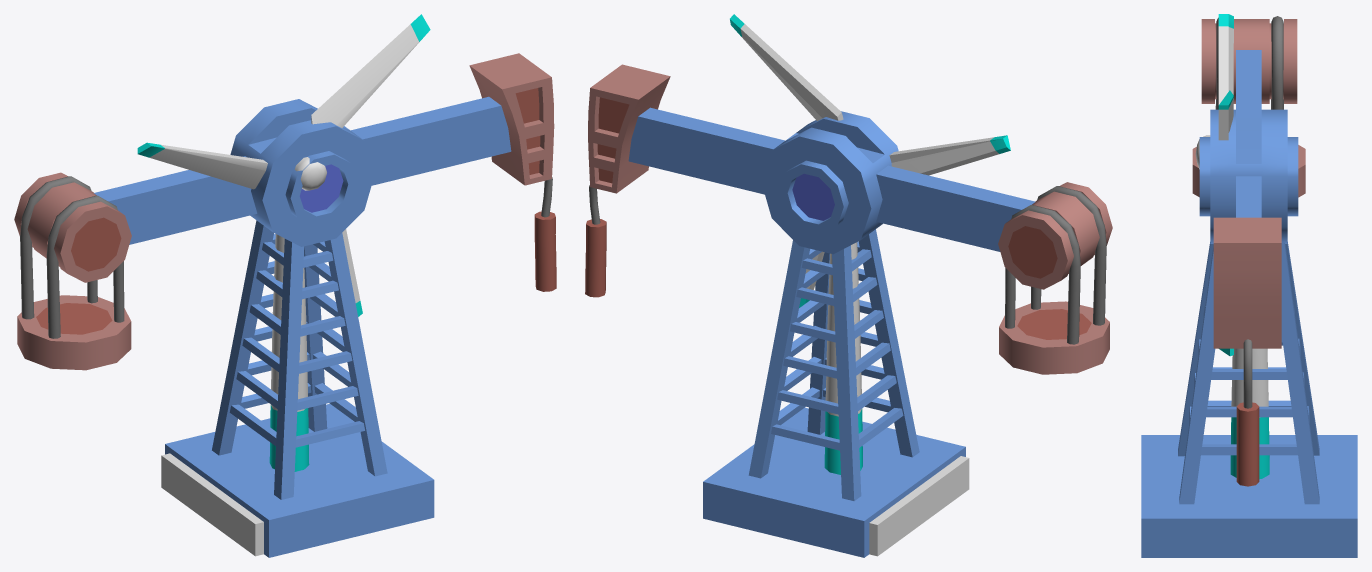
Rendered from Patrol_Electric_BASE.fbx.
The picture shows the model from 3 angles, left to right: view 1: azimuth 30°, elevation 25°; view 2: azimuth 150°, elevation 25°; view 3: azimuth 270°, elevation 25°; orthographic projection. The views are drawn at different scales.
Visible parts, largest first — view 1: PumpJackDown, PumpJackMiddle, PumpJackLeft, MainTribun, TribunHolder, TribunCylinder, PumpRightDown; view 2: PumpJackDown, PumpJackMiddle, PumpJackLeft, MainTribun, TribunHolder, TribunCylinder, PumpRightDown; view 3: PumpJackDown, PumpJackMiddle, PumpJackLeft, PumpRightDown, TribunCylinder, MainTribun.
Boxes of the visible parts, x1,y1,x2,y2 form: PumpJackDown: (165, 220, 434, 557); PumpJackMiddle: (94, 53, 554, 246); PumpJackLeft: (14, 172, 131, 370); MainTribun: (137, 14, 430, 316); TribunHolder: (161, 453, 263, 556); TribunCylinder: (269, 234, 309, 471); PumpRightDown: (534, 177, 556, 291); PumpJackDown: (703, 229, 965, 557); PumpJackMiddle: (588, 64, 1035, 254); PumpJackLeft: (998, 182, 1112, 374); MainTribun: (730, 14, 1010, 307); TribunHolder: (869, 456, 969, 556); TribunCylinder: (824, 242, 862, 474); PumpRightDown: (585, 185, 606, 297); PumpJackDown: (1141, 242, 1357, 557); PumpJackMiddle: (1199, 50, 1298, 348); PumpJackLeft: (1192, 16, 1305, 197); PumpRightDown: (1236, 339, 1259, 486); TribunCylinder: (1230, 348, 1269, 479); MainTribun: (1195, 14, 1233, 356).
Bounding box in the file's own units: 15.87 × 13.3 × 5.39.
